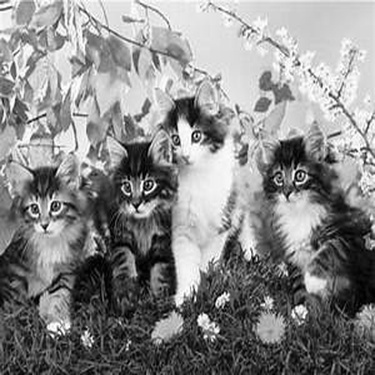cat: (148, 79, 255, 324), (257, 118, 374, 319), (98, 127, 179, 344), (1, 151, 90, 344)
